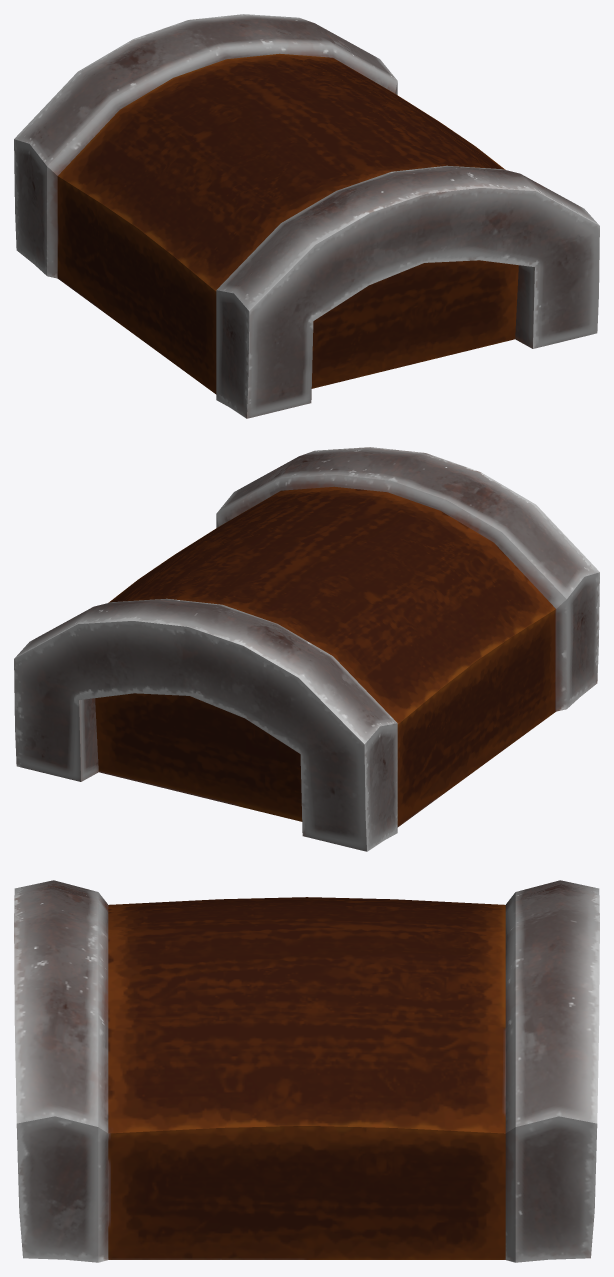
File: chesttop.fbx
3 renders of one model, top to bottom at view 1: azimuth 30°, elevation 25°; view 2: azimuth 150°, elevation 25°; view 3: azimuth 270°, elevation 25°, orthographic. The views are drawn at different scales.
Parts seen in each view (by area): view 1: Cube.001; view 2: Cube.001; view 3: Cube.001.
Part boxes in pixels (box(x1,y1,x2,y2)): Cube.001: box(14, 14, 599, 418); Cube.001: box(14, 447, 599, 851); Cube.001: box(14, 880, 599, 1262).
Size of the model in its own units: 442 by 240 by 519.
